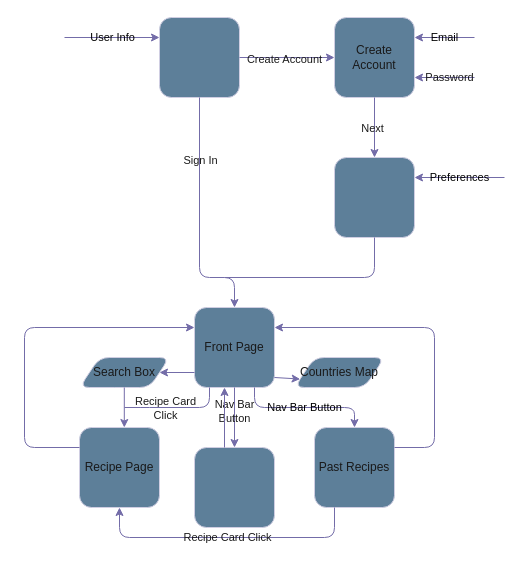
Image size: 530x563. Some labels were removed from this diagram. Each missing label, with the box of its shape:
Sign-In: (158, 16, 240, 98)
User Preferences Change: (194, 446, 274, 528)
User Preferences Initial: (334, 156, 414, 238)
